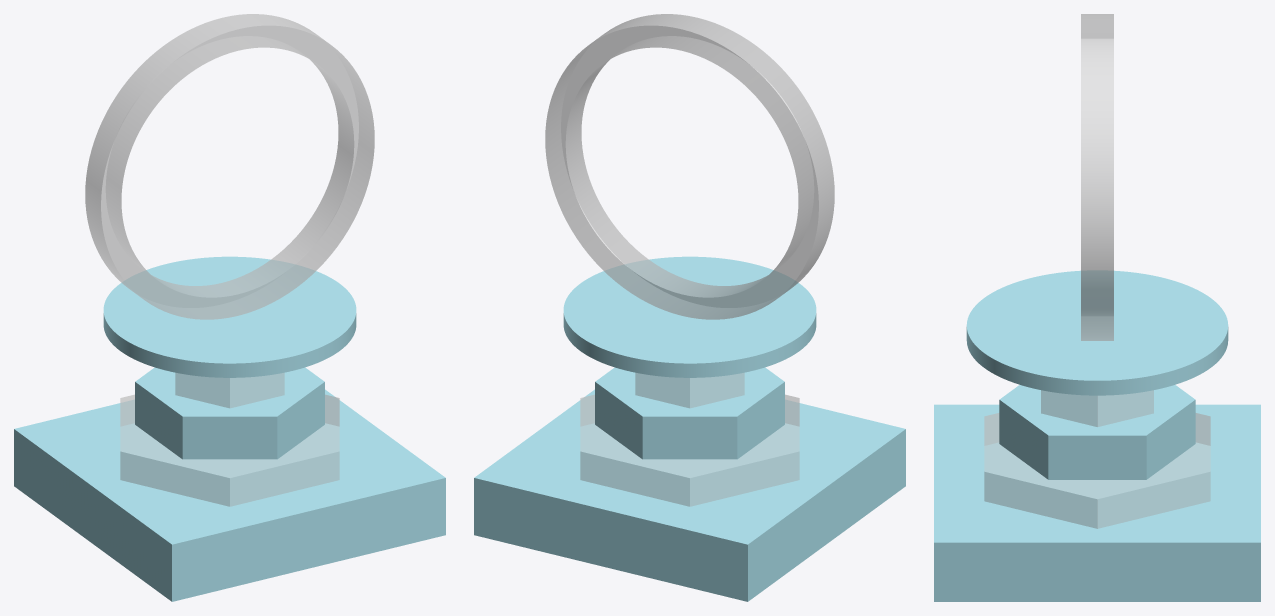
The model's file is diamond.dae.
The picture shows the model from 3 angles, left to right: view 1: azimuth 30°, elevation 25°; view 2: azimuth 150°, elevation 25°; view 3: azimuth 270°, elevation 25°; orthographic projection. The views are drawn at different scales.
Parts seen in each view (by area): view 1: base_diamond (×7), Component_5 (×2); view 2: base_diamond (×7), Component_5 (×2); view 3: base_diamond (×7), Component_5 (×2).
Boxes of the visible parts, left/top/right/bottom form: base_diamond (×7): left=14, top=256, right=445, bottom=601; Component_5 (×2): left=85, top=14, right=374, bottom=319; base_diamond (×7): left=474, top=256, right=905, bottom=601; Component_5 (×2): left=545, top=14, right=834, bottom=319; base_diamond (×7): left=934, top=270, right=1260, bottom=601; Component_5 (×2): left=1081, top=14, right=1113, bottom=340.
Bounding box in the file's own units: 394 × 394 × 669.
